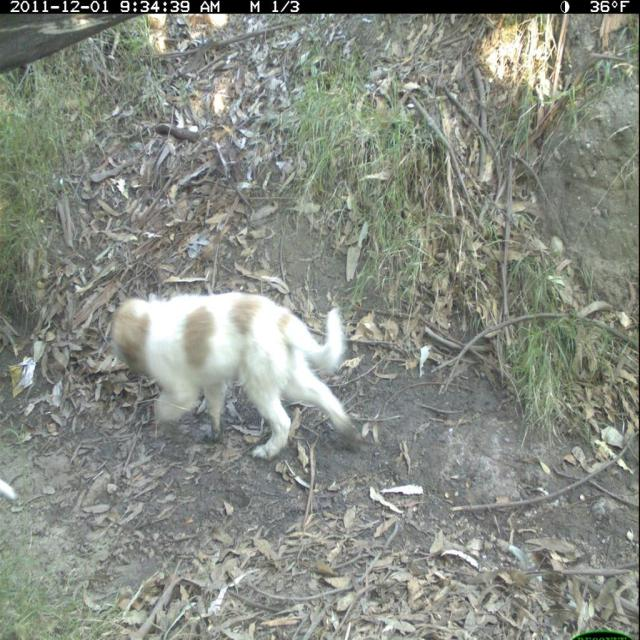dog: (110, 274, 362, 468)
